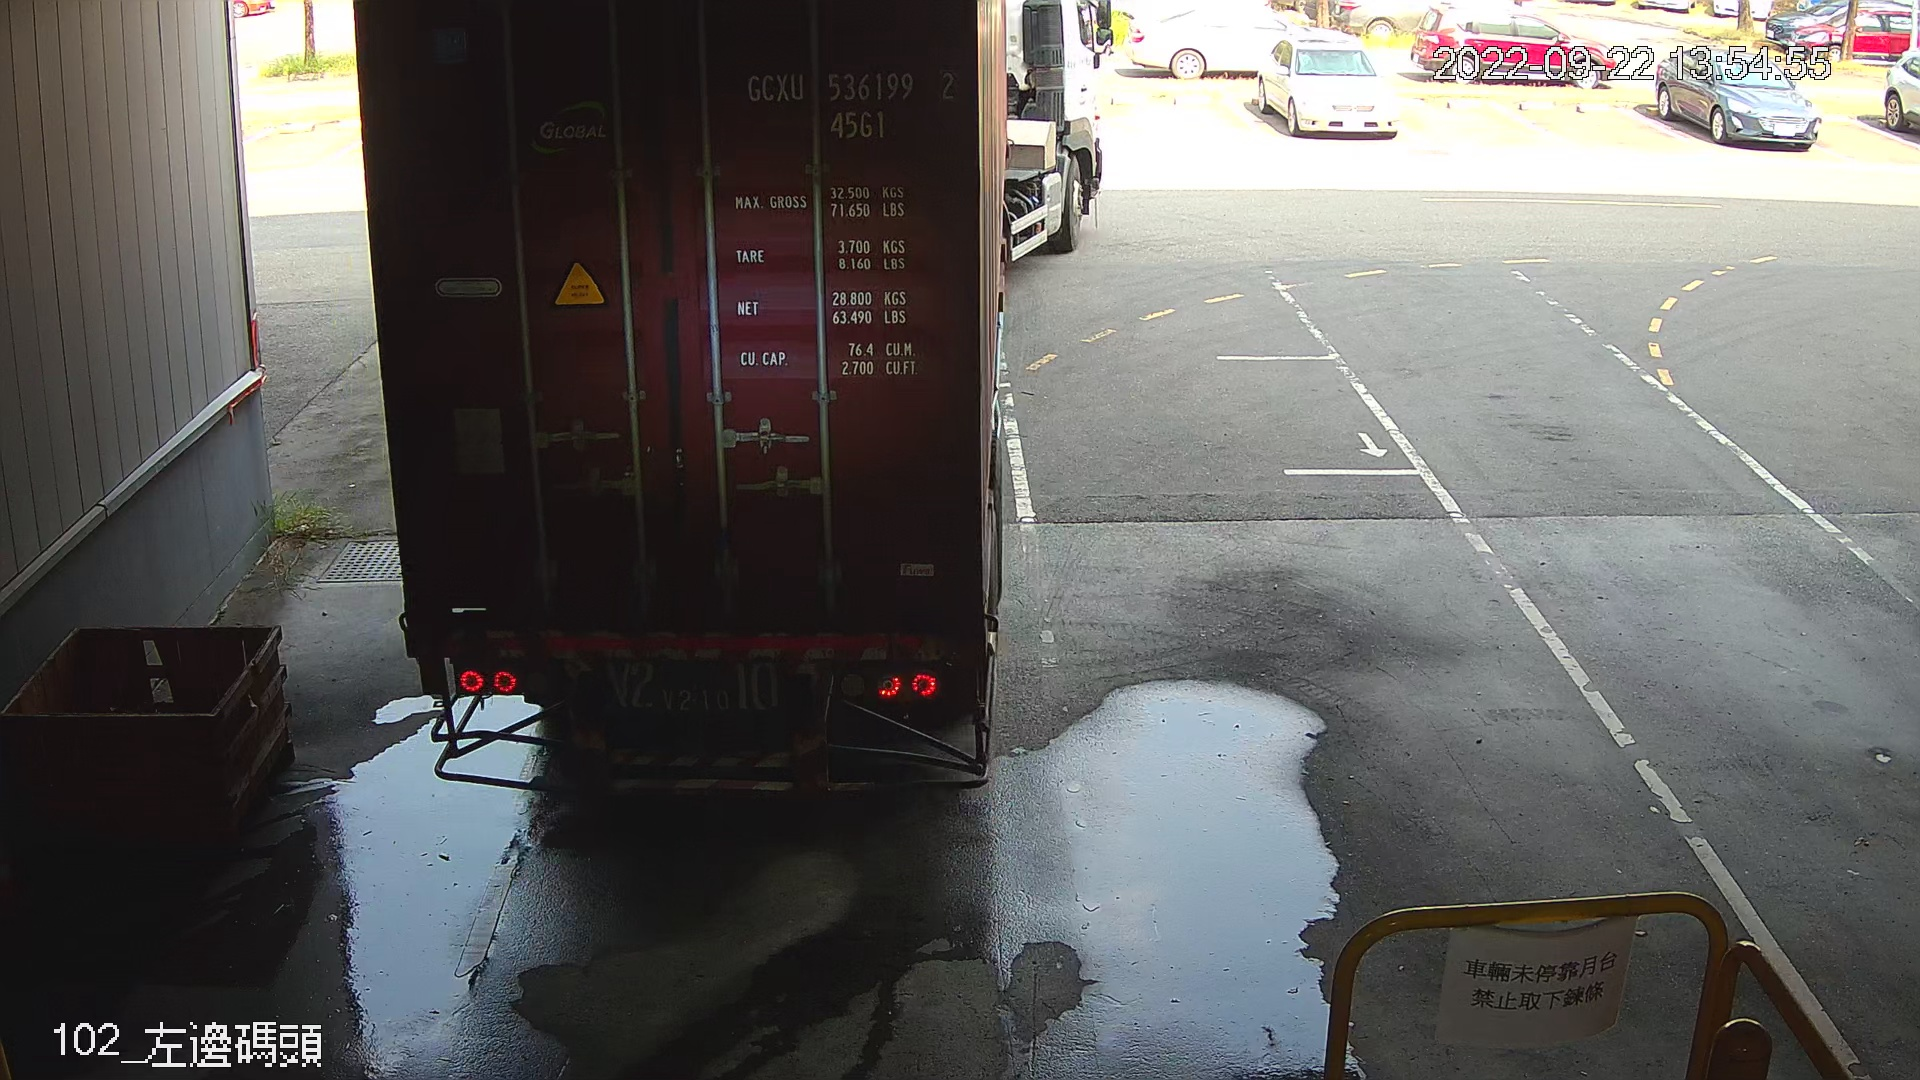container: (731, 58, 967, 146)
